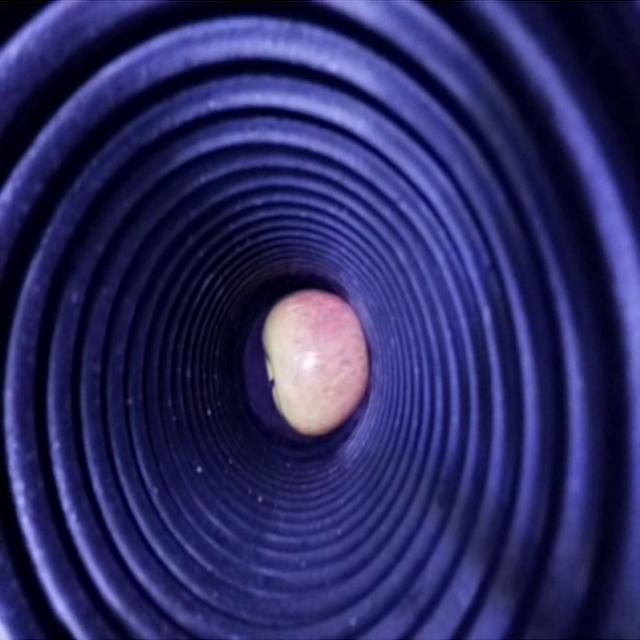obstacles: (263, 289, 369, 437)
